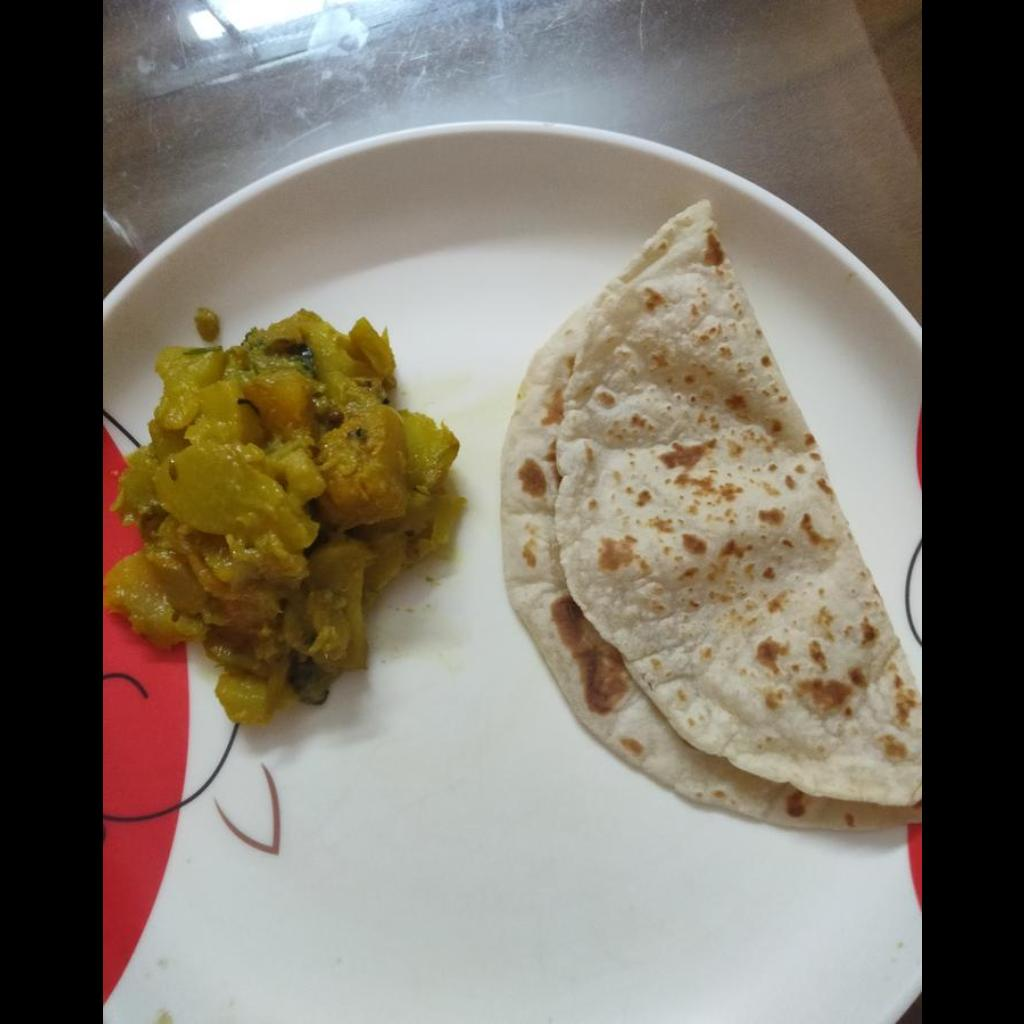ruti: (496, 196, 920, 831)
vaji: (109, 311, 453, 717)
